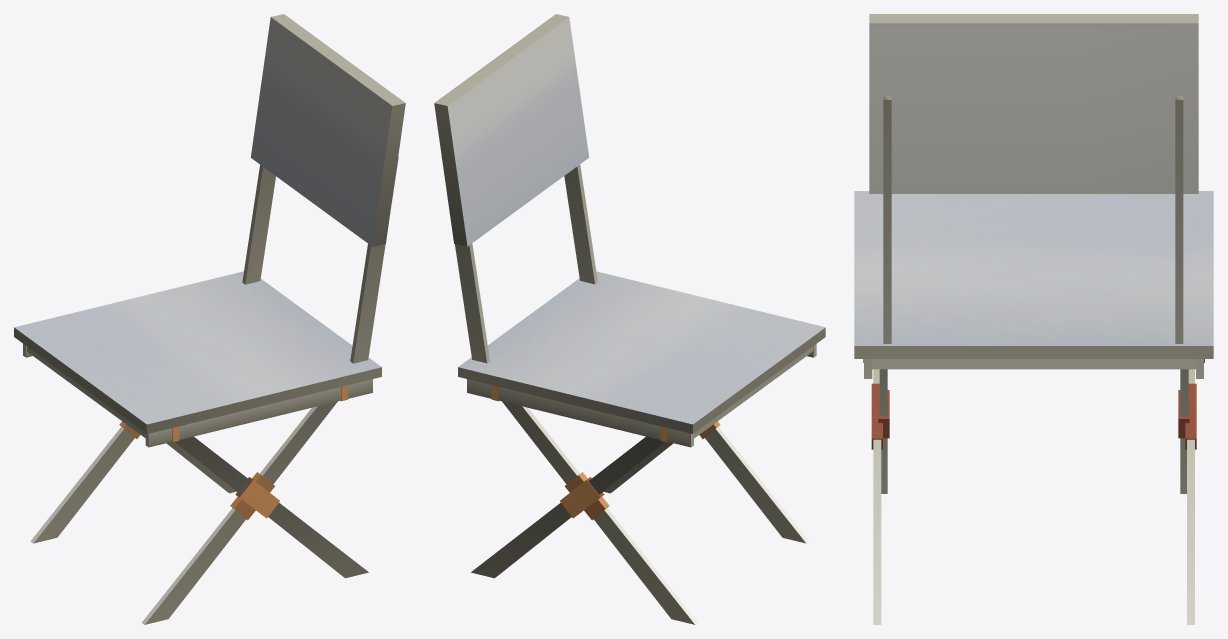
File: CBS_cafe_1F_TableChair.FBX
3 views of the same model, side by side, from view 1: azimuth 30°, elevation 25°; view 2: azimuth 150°, elevation 25°; view 3: azimuth 270°, elevation 25° (orthographic). The views are drawn at different scales.
Visible parts, largest first — view 1: CBS_cafe_1F_TableChair; view 2: CBS_cafe_1F_TableChair; view 3: CBS_cafe_1F_TableChair.
Part boxes in pixels (<box>): CBS_cafe_1F_TableChair: <box>14,14,405,624</box>; CBS_cafe_1F_TableChair: <box>434,14,825,624</box>; CBS_cafe_1F_TableChair: <box>854,14,1213,624</box>.
Size of the model in its own units: 41.38 by 69.12 by 36.
